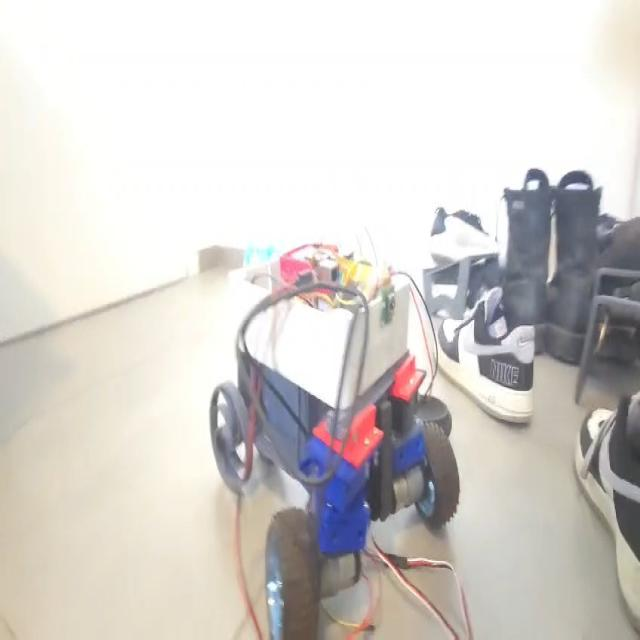Robot: (210, 221, 462, 638)
